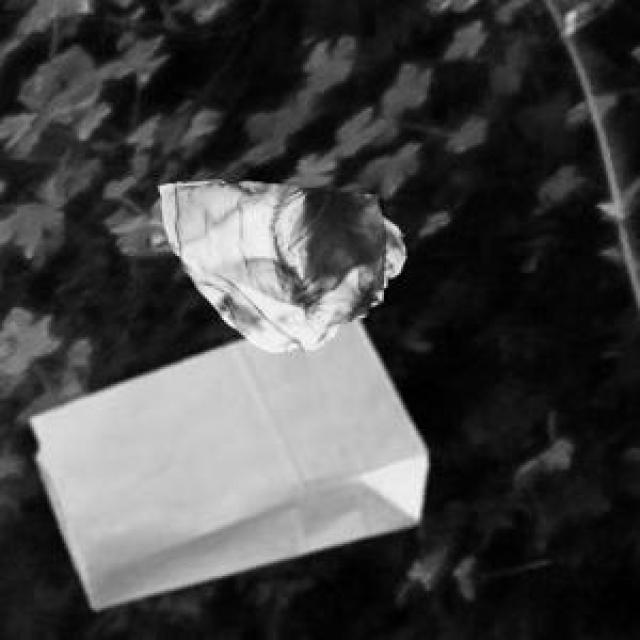paper: (28, 314, 422, 604)
